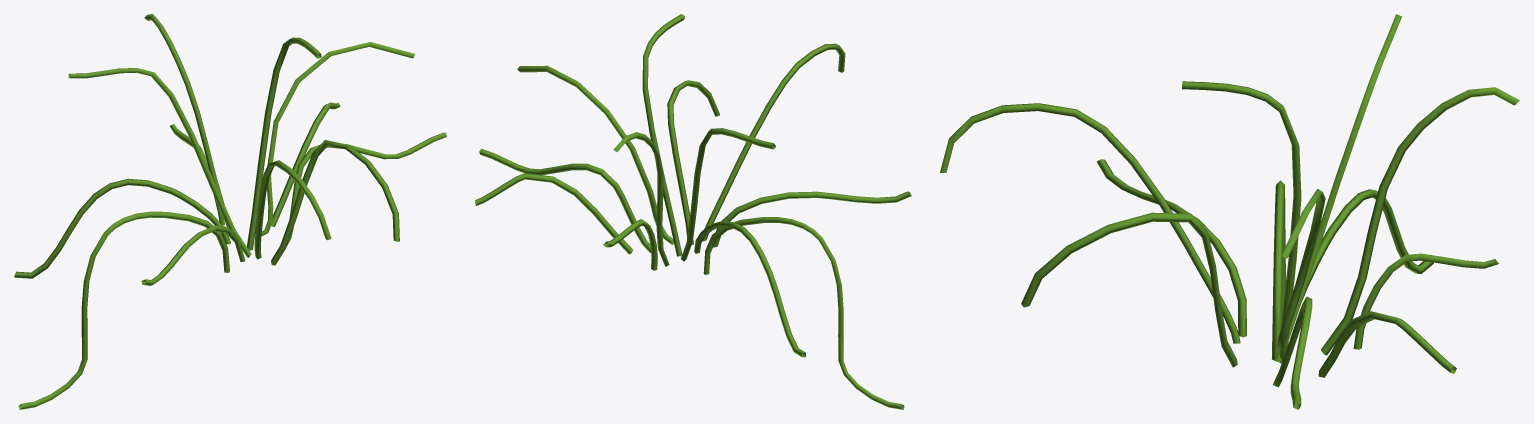
File: LeavesStems01.fbx
3 renders of one model, left to right at view 1: azimuth 30°, elevation 25°; view 2: azimuth 150°, elevation 25°; view 3: azimuth 270°, elevation 25°, orthographic. The views are drawn at different scales.
Visible parts, largest first — view 1: NurbsPath.001; view 2: NurbsPath.001; view 3: NurbsPath.001.
Boxes of the visible parts, x1=… form: NurbsPath.001: x1=14, y1=14, x2=446, y2=409; NurbsPath.001: x1=475, y1=14, x2=911, y2=409; NurbsPath.001: x1=940, y1=14, x2=1519, y2=409.
Size of the model in its own units: 2.12 by 1.5 by 1.78.
